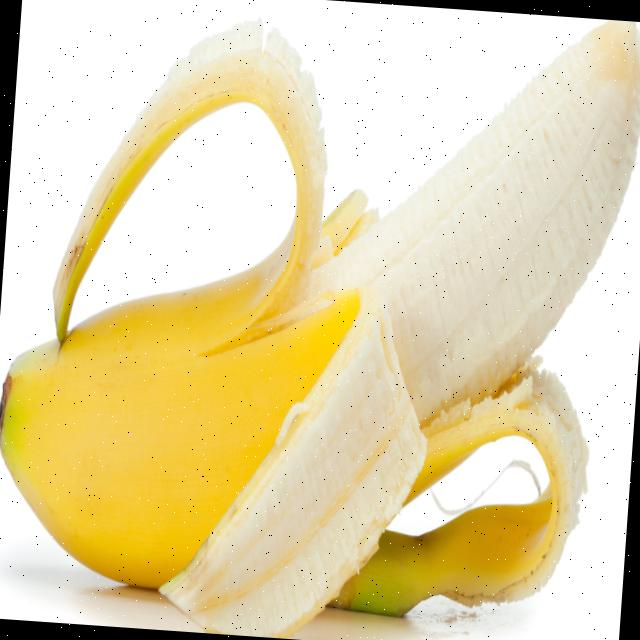Pisang: (0, 0, 640, 640), (155, 267, 440, 640), (324, 340, 598, 629)
